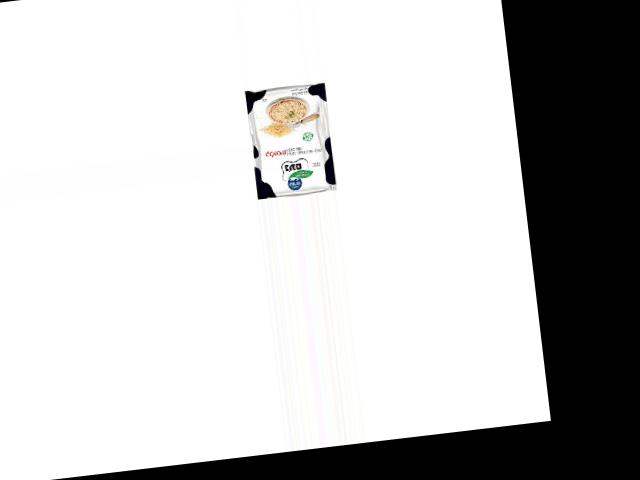cheese: (242, 79, 338, 200)
